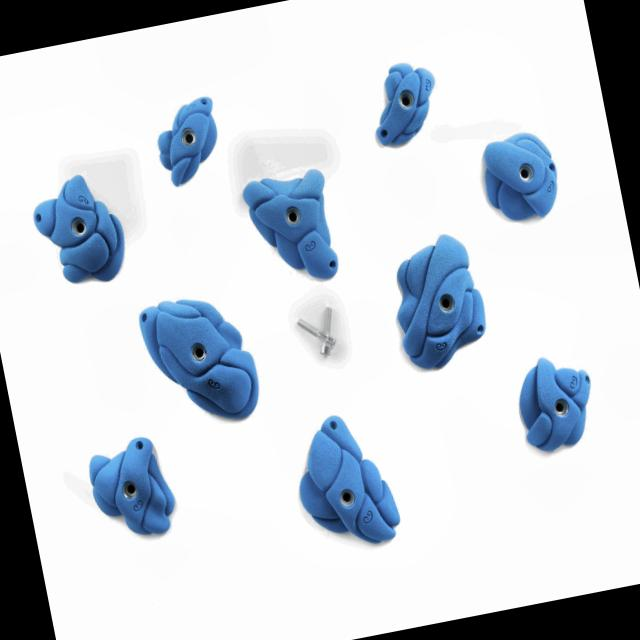Hold: (274, 403, 410, 563), (138, 284, 260, 434), (384, 228, 500, 374), (240, 168, 350, 296), (24, 164, 132, 292), (82, 430, 183, 546), (506, 346, 602, 456), (473, 122, 567, 233), (144, 91, 228, 193), (364, 57, 446, 151)
